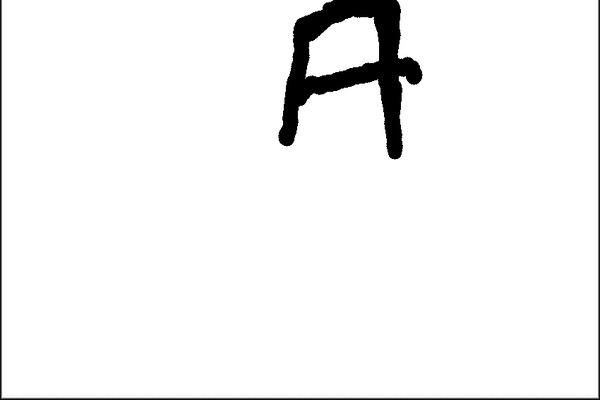A: (268, 0, 430, 173)
